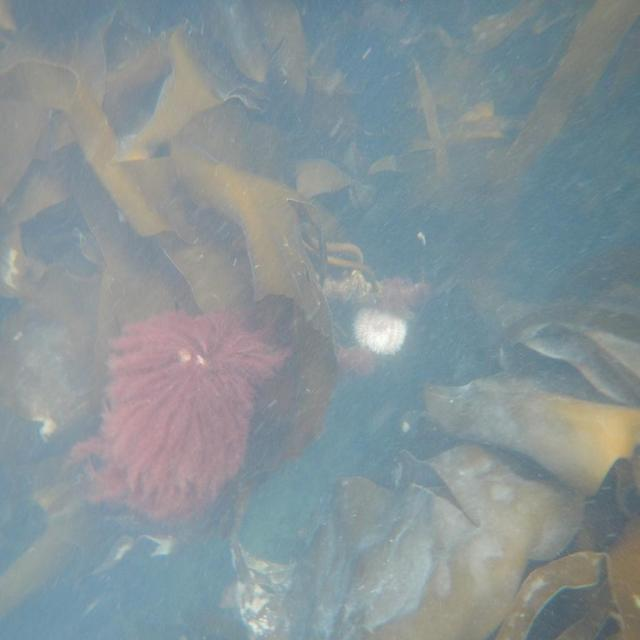Deniz Kestanesi: (353, 305, 407, 357)
